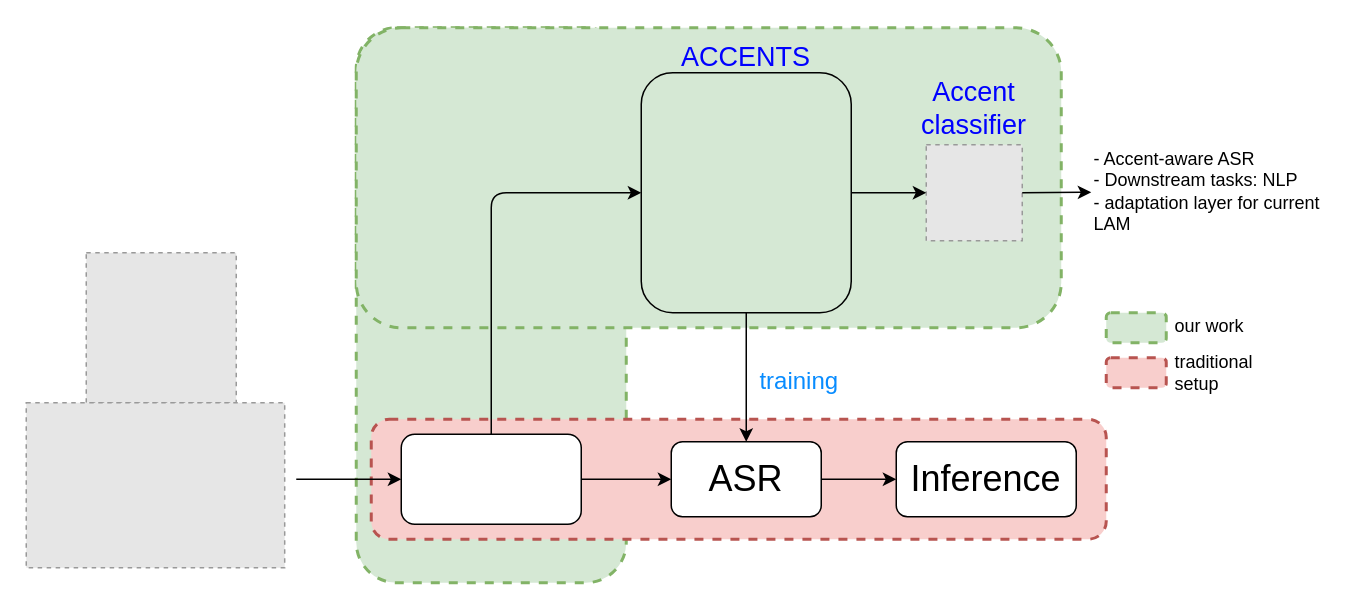
Some shapes in this 1359 by 609 pixel diagram are drawn without their labels. Grey dashed boxes stand in for pictures. Each missing label, with the centre of its shape:
"ENGLISH" belongs at point 490,478.
"US UK AFRICA CANADA NEW ZEALAND ... SPAIN" belongs at point 745,192.
